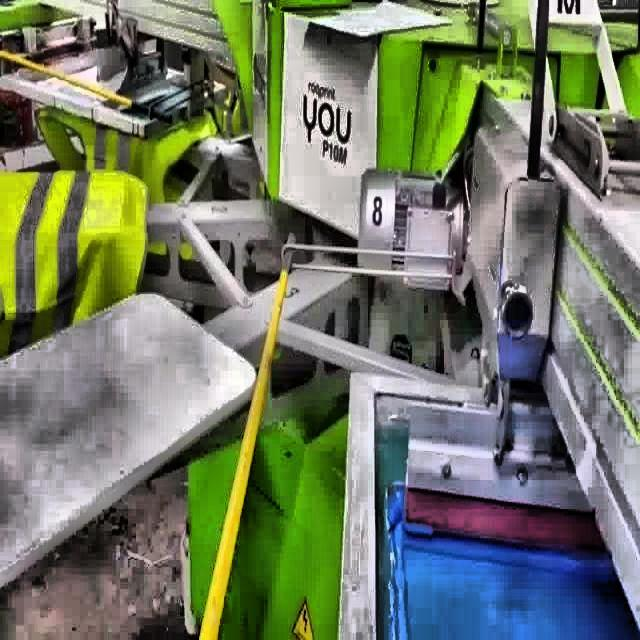safety_jacket: (0, 170, 150, 362)
